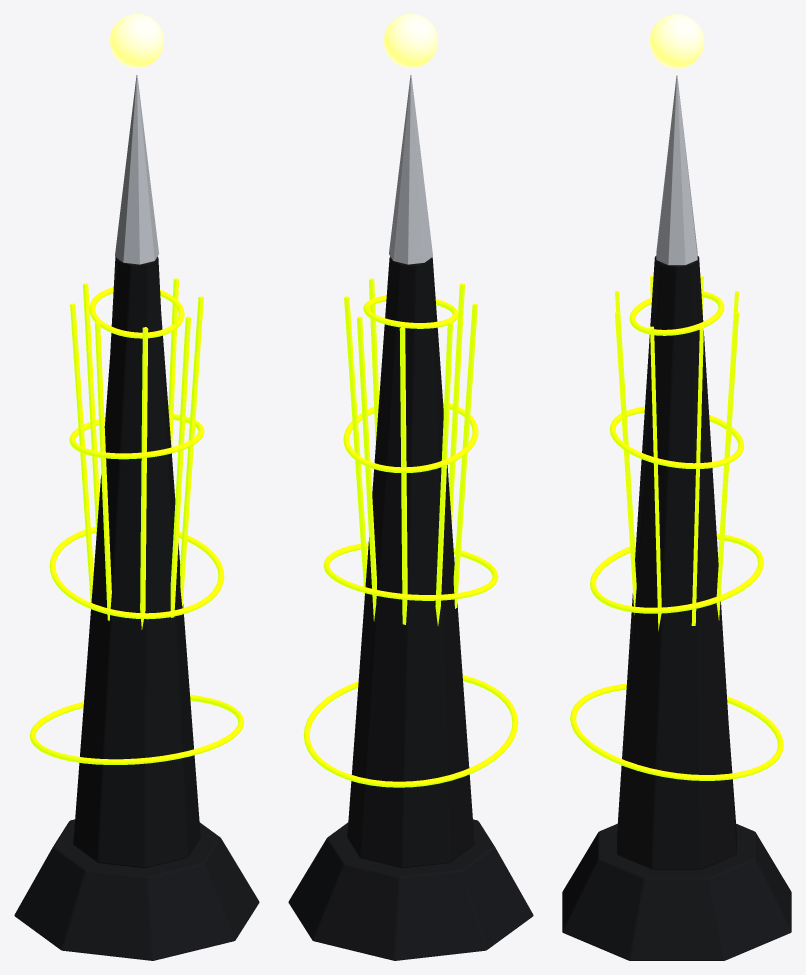
Rendered from summit_spire.glb.
3 renders of one model, left to right at view 1: azimuth 30°, elevation 25°; view 2: azimuth 150°, elevation 25°; view 3: azimuth 270°, elevation 25°, orthographic.
Visible parts, largest first — view 1: summit_spire; view 2: summit_spire; view 3: summit_spire.
Part boxes in pixels (left/top/right/bottom): summit_spire: left=14, top=14, right=259, bottom=960; summit_spire: left=288, top=14, right=533, bottom=960; summit_spire: left=562, top=14, right=791, bottom=960.
Bounding box in the file's own units: 9.19 × 39.6 × 9.19.
